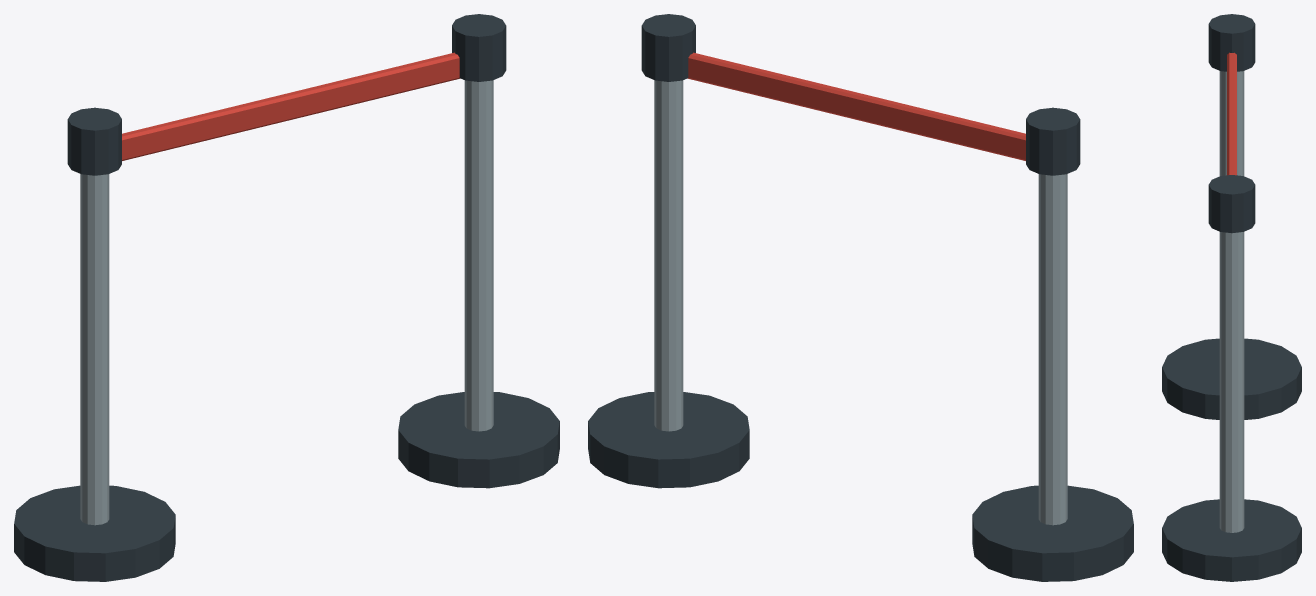
The model's file is Queue_Stanchion_Belt.glb.
3 views of the same model, side by side, from view 1: azimuth 30°, elevation 25°; view 2: azimuth 150°, elevation 25°; view 3: azimuth 270°, elevation 25° (orthographic). The views are drawn at different scales.
Parts seen in each view (by area): view 1: Queue_Stanchion_Belt; view 2: Queue_Stanchion_Belt; view 3: Queue_Stanchion_Belt.
Part boxes in pixels (left/top/right/bottom): Queue_Stanchion_Belt: left=14, top=14, right=559, bottom=581; Queue_Stanchion_Belt: left=588, top=14, right=1133, bottom=581; Queue_Stanchion_Belt: left=1162, top=14, right=1301, bottom=581.
Size of the model in its own units: 1.34 by 1.04 by 0.36.
